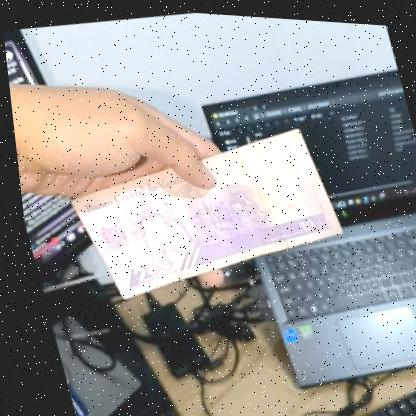vef_back: (47, 105, 352, 315)
